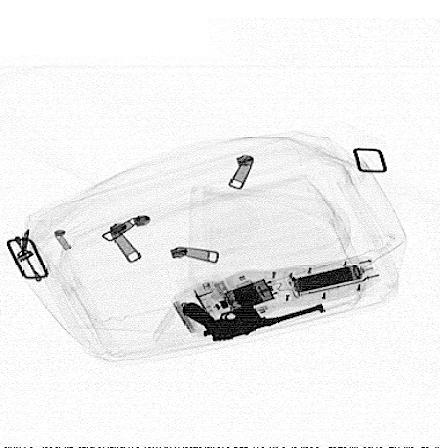Gun: (182, 301, 325, 343)
